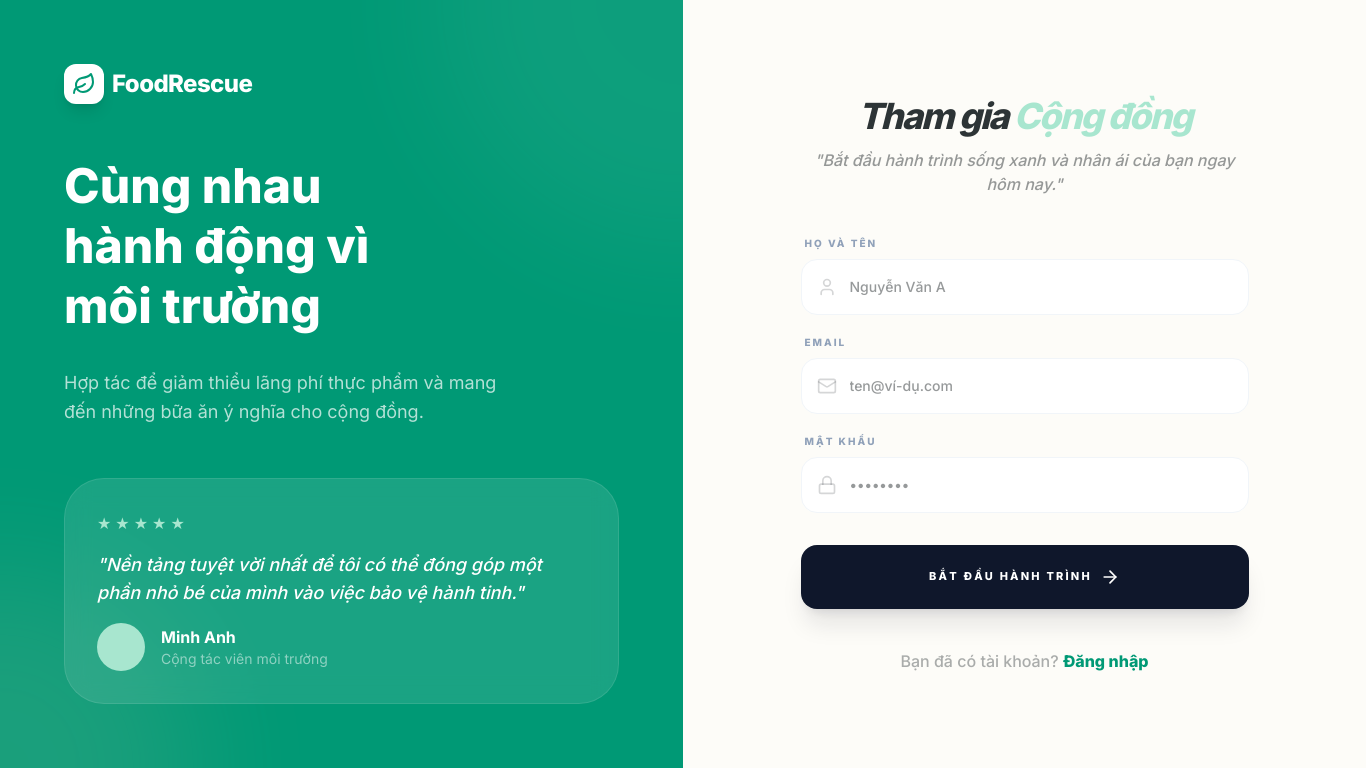
Scenario: RegisterPage › shows system error when register request throws
The width and height of the screenshot is (1366, 768).
Type "Nguyen Van C" into the field with placeholder "Nguyễn Văn A" at (1024, 286), box 800,258 -> 1248,314
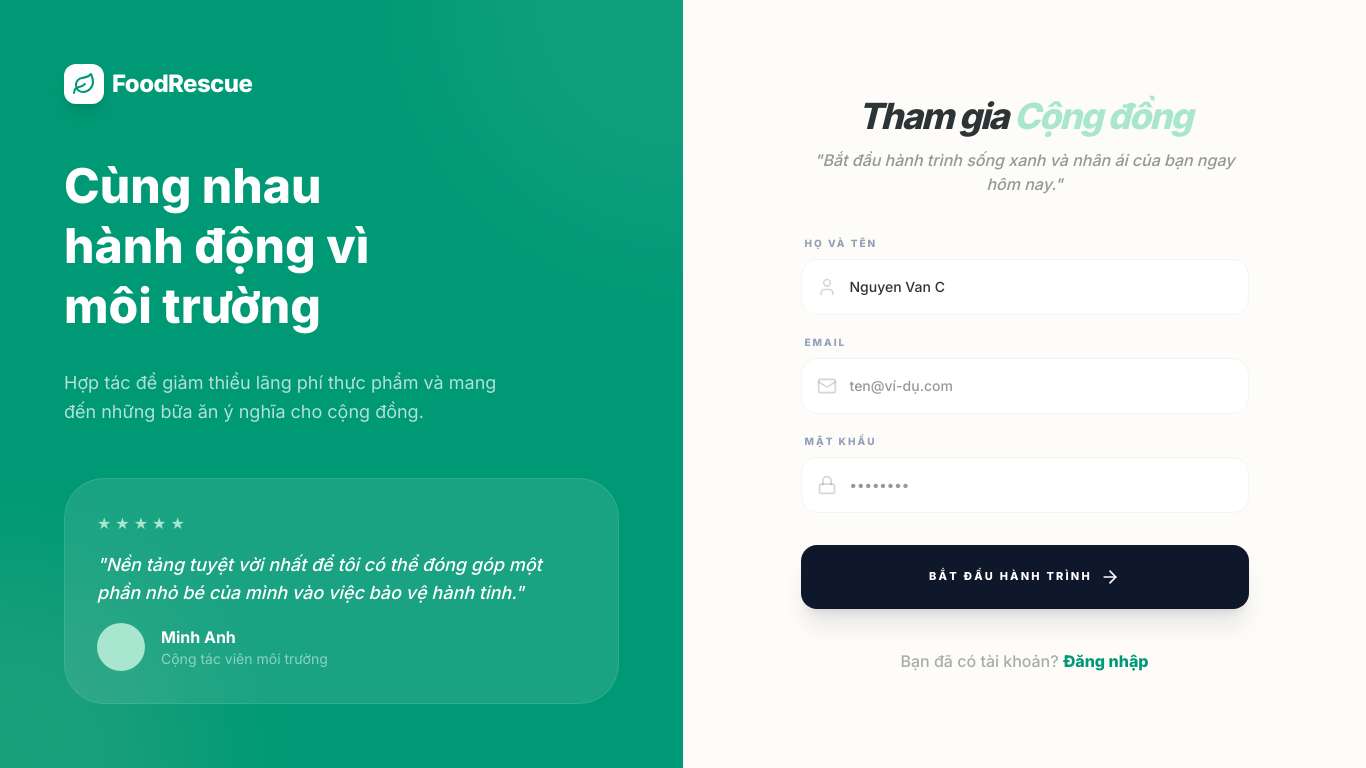
Type "network@example.com" into the field with placeholder "ten@ví-dụ.com" at (1024, 386), box 800,358 -> 1248,414
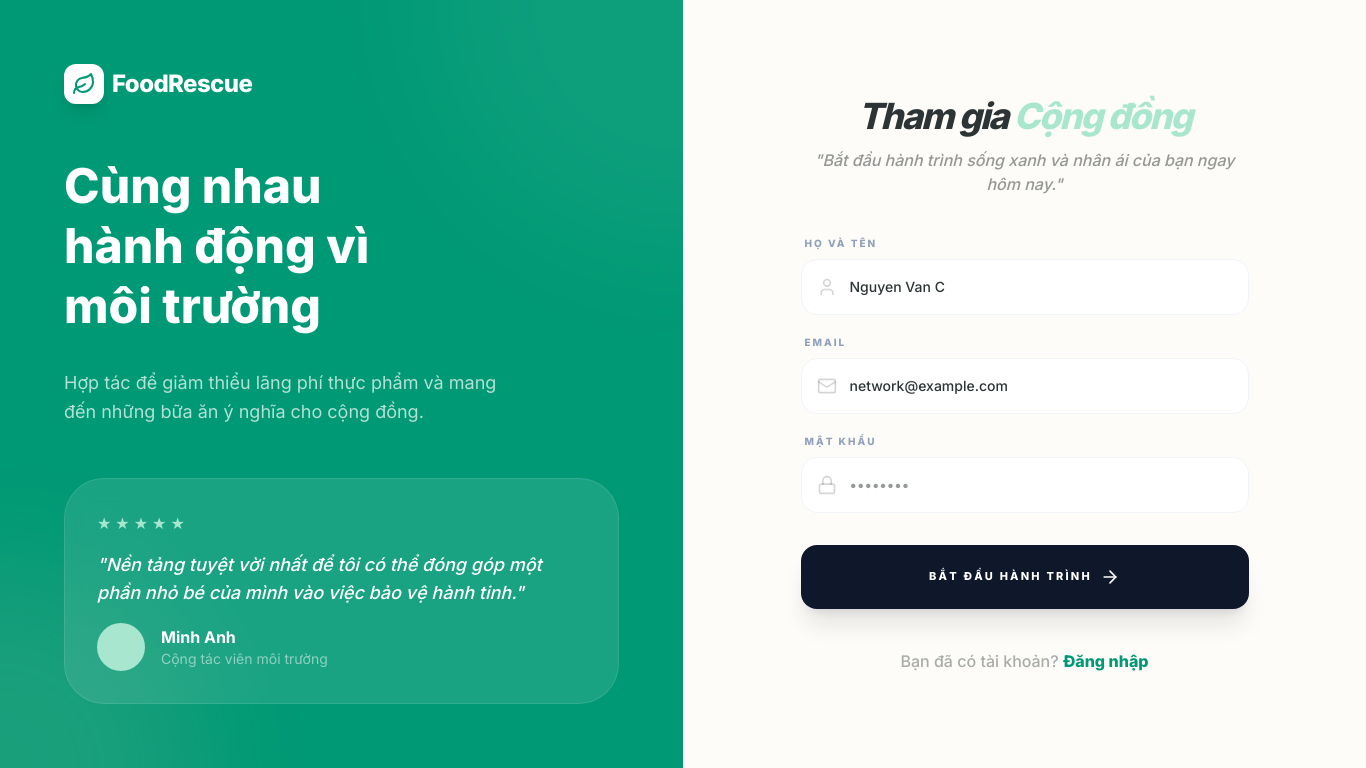
Type "12345678" into the password field with placeholder "••••••••" at (1024, 484), box 800,456 -> 1248,512
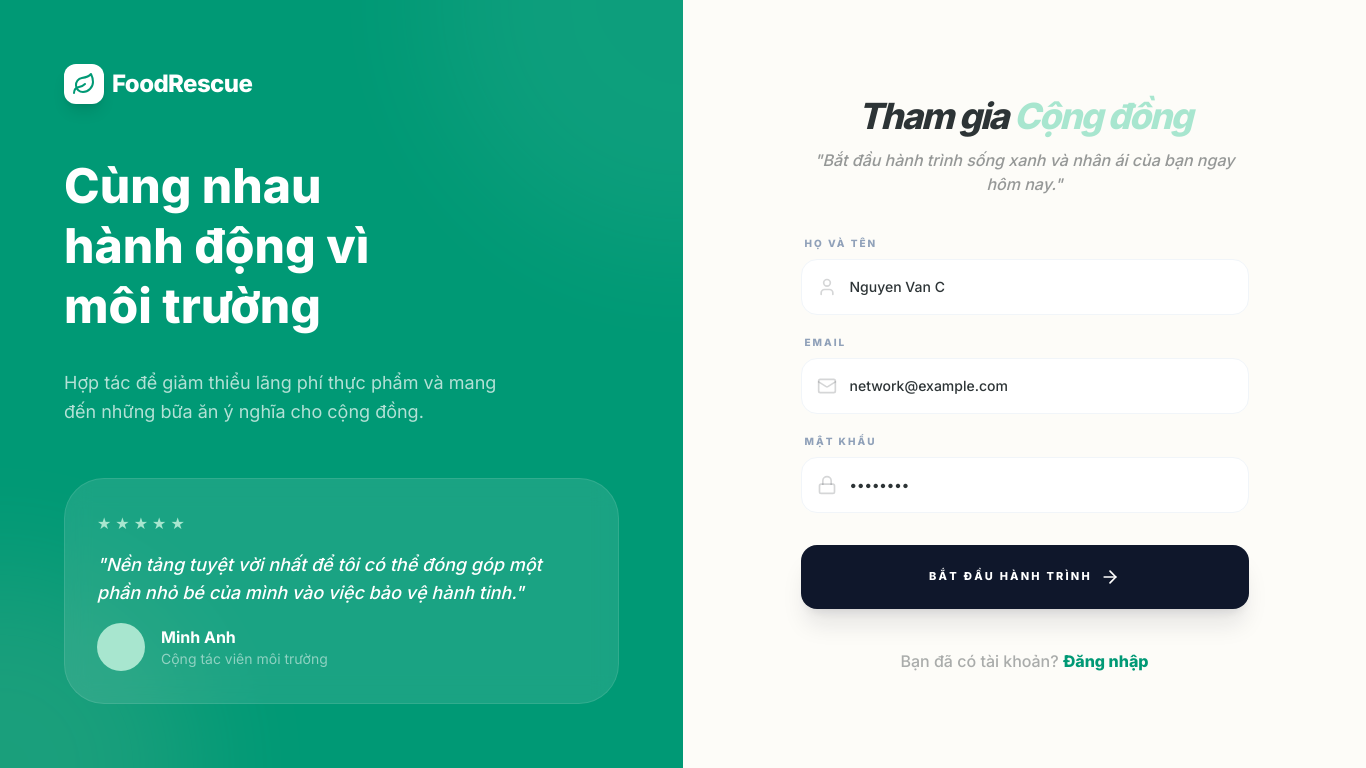
Click the button "Bắt đầu hành trình" at (1024, 576), box 800,544 -> 1248,608
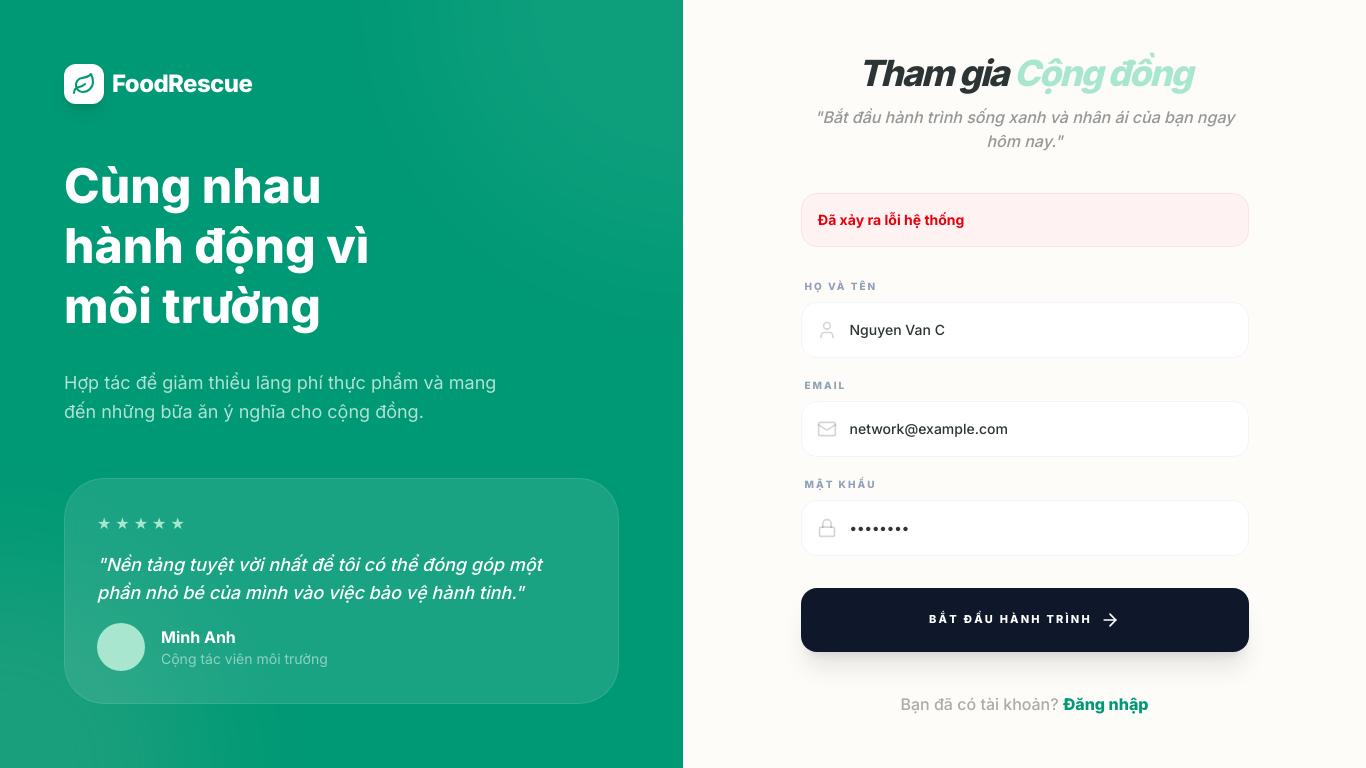
expect the text "Đã xảy ra lỗi hệ thống" is shown: met, box 800,192 -> 1248,246
